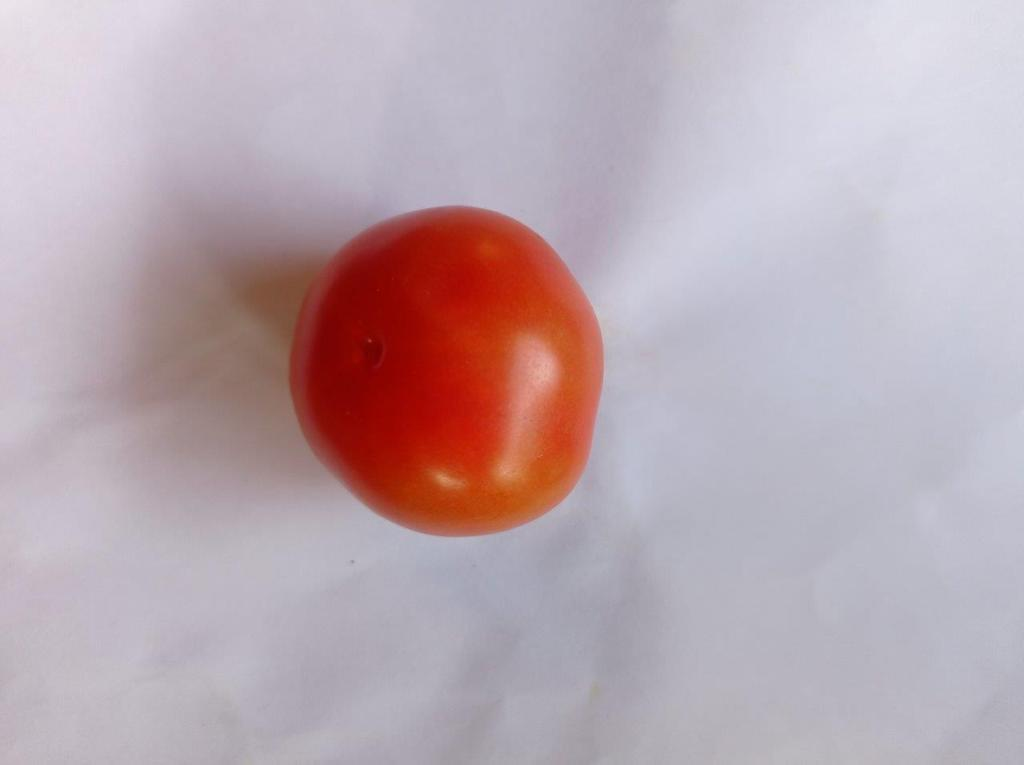tomato: (292, 207, 602, 535)
